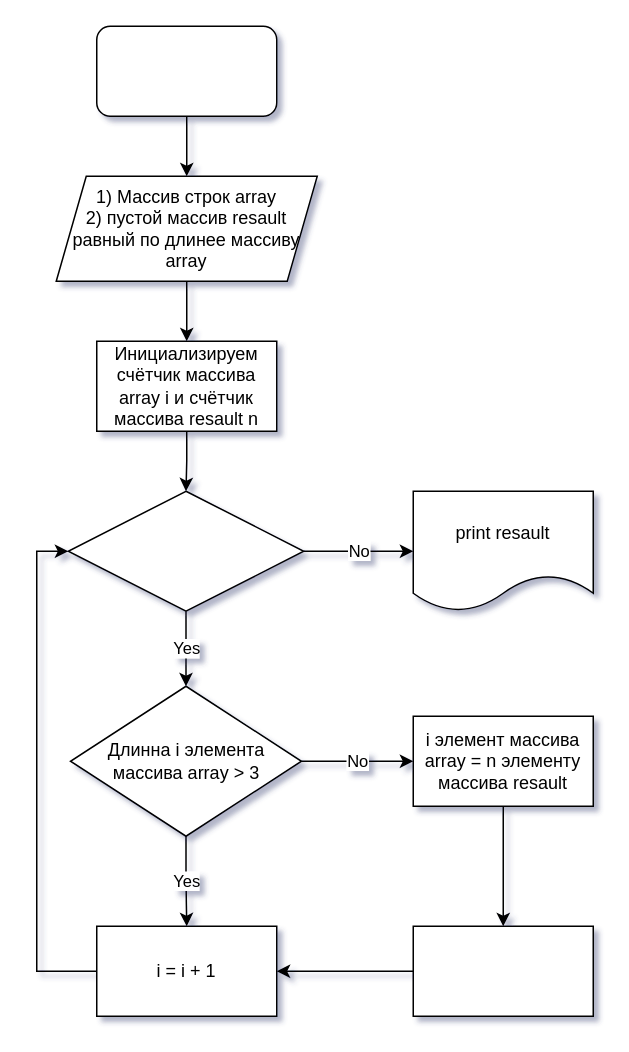
Image size: 629x1052. Some labels were removed from this diagram. The shapes that lost their labels are listed below. From the top down, each one's box as (x1, y1, x2, y2) in pixels, then its label:
(95, 25, 277, 116): Start
(67, 490, 304, 611): i < длинна массива array
(412, 925, 593, 1016): n = n + 1
